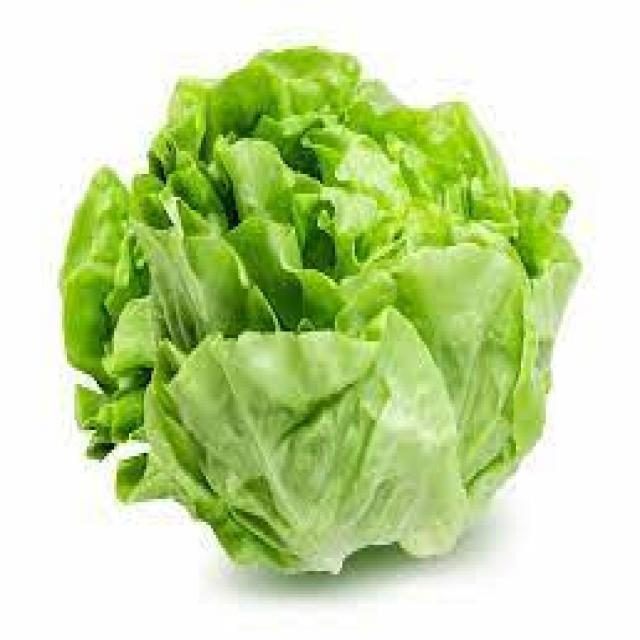Lettuce: (60, 46, 582, 578)
